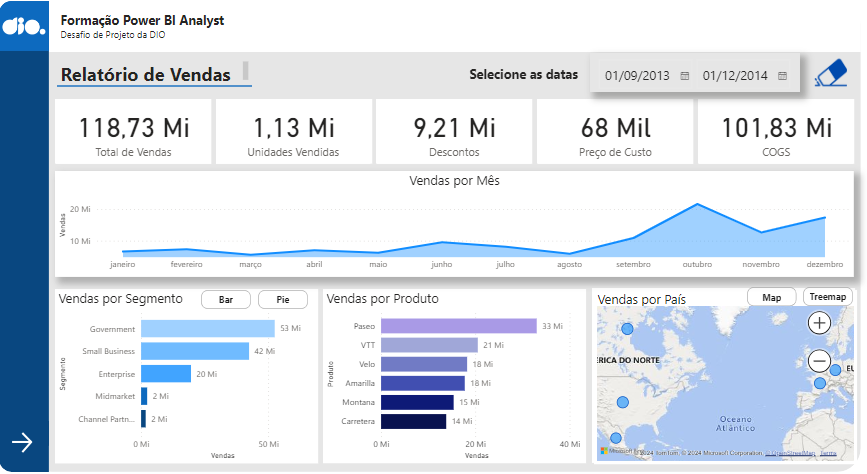

The dashboard page shown, as its layout file describes it:
{"tool":"powerbi","page":{"name":"SALES","canvas":[1280,720],"ordinal":0},"visuals":[{"type":"group","id":"g1","title":"estilo_report","box":[0,20.5,1261.5,690],"z":0},{"type":"shape","title":"fundo","box":[42.5,20.5,1218.8,689.4],"z":0,"group":"g1"},{"type":"shape","title":"lateral_superior","box":[0,21.2,73.2,651.2],"z":0,"group":"g2"},{"type":"slicer","title":"datas","fields":{"Values":["financials.Date"]},"box":[864.9,96.6,307.3,57.1],"z":0,"group":"g6"},{"type":"shape","box":[82,164,228.6,94.6],"z":0,"group":"g5"},{"type":"treemap","fields":{"Values":["Sum(financials. Sales)"],"Group":["financials.Country"]},"box":[867.1,440.4,385.4,256.3],"z":0,"group":"g3"},{"type":"group","id":"g2","title":"lateral_esquerda","box":[0,21.2,73.2,689.3],"z":1000,"group":"g1"},{"type":"shape","title":"logo","box":[0,21.2,73.2,73.2],"z":1000,"group":"g2"},{"type":"image","title":"borracha","box":[1183.9,96.6,67.3,57.1],"z":1000,"group":"g6"},{"type":"shape","box":[317.1,164,228.6,94.6],"z":1000,"group":"g5"},{"type":"group","id":"g3","title":"vendas_pais","box":[867.1,439.3,387.8,258.9],"z":1000},{"type":"donutChart","title":"Vendas por Segmento","fields":{"Y":["Sum(financials. Sales)"],"Category":["financials.Segment"]},"box":[82.6,442.2,385.4,254.6],"z":1000,"group":"g4"},{"type":"map","title":"Vendas por País","fields":{"Size":["Sum(financials. Sales)"],"Category":["financials.Country"]},"box":[869.5,443.6,385.4,254.6],"z":1000,"group":"g3"},{"type":"actionButton","title":"btn_tremap","box":[1176,439.3,73.2,27.8],"z":1250,"group":"g3"},{"type":"actionButton","title":"btn_map","box":[1093.3,440,72.5,28.1],"z":1500,"group":"g3"},{"type":"shape","title":"topo","box":[73.2,21.2,1188.3,74.6],"z":2000,"group":"g1"},{"type":"actionButton","title":"limpar","box":[1194.1,103.9,67.3,49.8],"z":2000,"group":"g6"},{"type":"shape","box":[552.3,164,228.6,94.6],"z":2000,"group":"g5"},{"type":"clusteredBarChart","title":"Vendas por Segmento","fields":{"Y":["Sum(financials. Sales)"],"Category":["financials.Segment"]},"box":[82.6,442.2,385.4,254.6],"z":2000,"group":"g4"},{"type":"clusteredBarChart","title":"Vendas por Produto","fields":{"Y":["Sum(financials. Sales)"],"Category":["financials.Product"]},"box":[474.8,442.2,385.4,254.6],"z":2000},{"type":"shape","title":"lateral_inferior","box":[0,635.8,73.2,74.6],"z":2000,"group":"g2"},{"type":"actionButton","title":"btn_pie_chart","box":[380.2,443.5,73.2,27.8],"z":2500,"group":"g4"},{"type":"image","title":"logo_dio","box":[0,21.2,73.2,73.2],"z":3000,"group":"g2"},{"type":"textbox","title":"titulo_report","box":[84.9,103.2,285.4,41],"z":3000,"group":"g1"},{"type":"textbox","title":"rotulo","box":[683.4,109.8,175.6,36.6],"z":3000,"group":"g6"},{"type":"shape","box":[787.4,164,228.6,94.6],"z":3000,"group":"g5"},{"type":"group","id":"g4","title":"vendas_segmento","box":[82.6,442.2,385.4,254.6],"z":3000},{"type":"actionButton","title":"btn_bar_chart","box":[296.8,443.5,73.2,27.8],"z":3000,"group":"g4"},{"type":"shape","title":"linha","box":[84.9,135.4,285.4,17.6],"z":4000,"group":"g1"},{"type":"shape","box":[1022.5,164,228.6,94.6],"z":4000,"group":"g5"},{"type":"areaChart","title":"Vendas por Mês","fields":{"Category":["financials.Date.Variation.Hierarquia de datas.Mês"],"Y":["Sum(financials. Sales)"]},"box":[82,269.3,1169.3,155.1],"z":4000},{"type":"textbox","title":"titulo_report","box":[84.9,30,623.4,52.7],"z":5000,"group":"g1"},{"type":"group","id":"g5","title":"cards","box":[82,163.9,1169.3,95.1],"z":5000},{"type":"card","title":"unidades_vendidas","fields":{"Values":["Sum(financials.Units Sold)"]},"box":[317.8,164,226.2,95],"z":5000,"group":"g5"},{"type":"group","id":"g6","title":"segmentacao_datas","box":[683.4,96.6,578,57.1],"z":6000},{"type":"card","title":"descontos","fields":{"Values":["Sum(financials.Discounts)"]},"box":[552.6,164,226.2,95],"z":6000,"group":"g5"},{"type":"actionButton","title":"proximo","box":[13.3,647.2,47.4,40],"z":6501,"group":"g1"},{"type":"card","title":"preco_custo","fields":{"Values":["Sum(financials.Manufacturing Price)"]},"box":[788.8,163.9,226.8,95.1],"z":7000,"group":"g5"},{"type":"card","title":"total_vendas","fields":{"Values":["Sum(financials. Sales)"]},"box":[82.9,163.9,226.6,95.1],"z":8000,"group":"g5"},{"type":"card","title":"cogs","fields":{"Values":["Sum(financials.COGS)"]},"box":[1025.1,164,226.2,95],"z":9000,"group":"g5"}]}

Visuals, with their boxes on the page's 1280x720 design canvas (x1, y1, x2, y2). These are canvas units, not pixel positions in the 867x474 screenshot, which may show the page scaled, cropped or inside an application window:
"estilo_report" group: box=[0, 20, 1262, 710]
"fundo" shape: box=[42, 20, 1261, 710]
"lateral_superior" shape: box=[0, 21, 73, 672]
"datas" slicer: box=[865, 97, 1172, 154]
shape: box=[82, 164, 311, 259]
treemap - Sum(financials. Sales) x financials.Country: box=[867, 440, 1252, 697]
"lateral_esquerda" group: box=[0, 21, 73, 710]
"logo" shape: box=[0, 21, 73, 94]
"borracha" image: box=[1184, 97, 1251, 154]
shape: box=[317, 164, 546, 259]
"vendas_pais" group: box=[867, 439, 1255, 698]
"Vendas por Segmento" donutChart: box=[83, 442, 468, 697]
"Vendas por País" map: box=[870, 444, 1255, 698]
"btn_tremap" actionButton: box=[1176, 439, 1249, 467]
"btn_map" actionButton: box=[1093, 440, 1166, 468]
"topo" shape: box=[73, 21, 1262, 96]
"limpar" actionButton: box=[1194, 104, 1261, 154]
shape: box=[552, 164, 781, 259]
"Vendas por Segmento" clusteredBarChart: box=[83, 442, 468, 697]
"Vendas por Produto" clusteredBarChart: box=[475, 442, 860, 697]
"lateral_inferior" shape: box=[0, 636, 73, 710]
"btn_pie_chart" actionButton: box=[380, 444, 453, 471]
"logo_dio" image: box=[0, 21, 73, 94]
"titulo_report" textbox: box=[85, 103, 370, 144]
"rotulo" textbox: box=[683, 110, 859, 146]
shape: box=[787, 164, 1016, 259]
"vendas_segmento" group: box=[83, 442, 468, 697]
"btn_bar_chart" actionButton: box=[297, 444, 370, 471]
"linha" shape: box=[85, 135, 370, 153]
shape: box=[1022, 164, 1251, 259]
"Vendas por Mês" areaChart: box=[82, 269, 1251, 424]
"titulo_report" textbox: box=[85, 30, 708, 83]
"cards" group: box=[82, 164, 1251, 259]
"unidades_vendidas" card: box=[318, 164, 544, 259]
"segmentacao_datas" group: box=[683, 97, 1261, 154]
"descontos" card: box=[553, 164, 779, 259]
"proximo" actionButton: box=[13, 647, 61, 687]
"preco_custo" card: box=[789, 164, 1016, 259]
"total_vendas" card: box=[83, 164, 310, 259]
"cogs" card: box=[1025, 164, 1251, 259]
